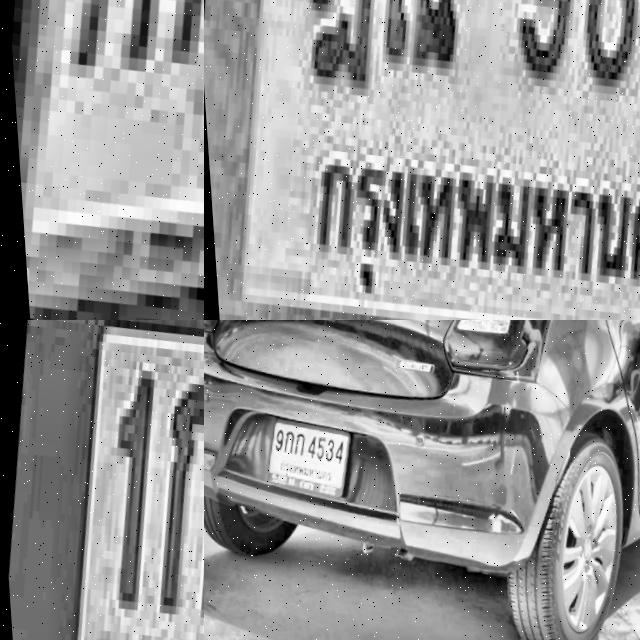license-plate: (204, 0, 640, 320), (0, 0, 204, 320), (0, 320, 204, 640), (256, 414, 352, 501)
